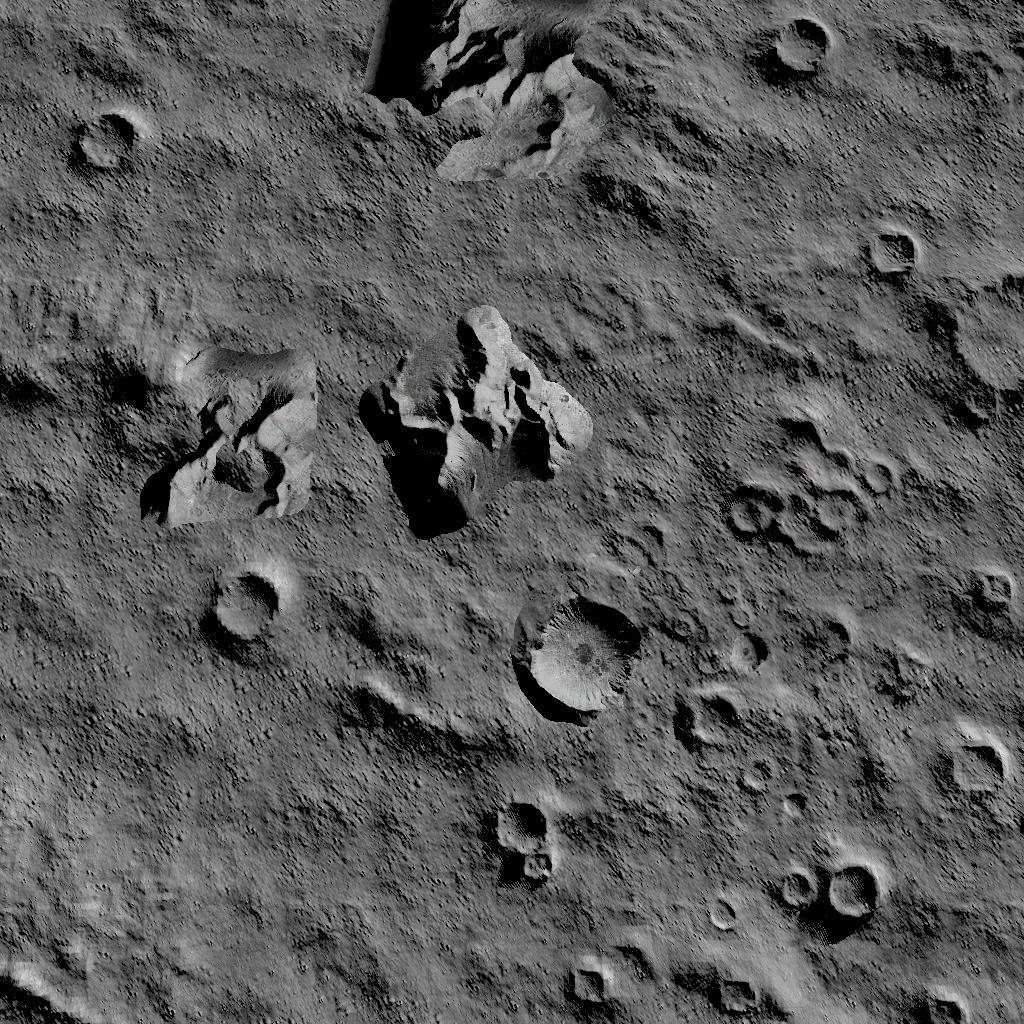Boulders: (355, 306, 597, 538), (363, 0, 639, 185), (101, 336, 314, 528)
Crater: (722, 410, 898, 558), (515, 592, 644, 722), (937, 268, 1024, 418), (203, 566, 287, 650), (778, 862, 884, 919), (485, 802, 557, 884), (67, 108, 144, 176), (675, 686, 749, 746), (767, 12, 836, 74), (941, 740, 1009, 801), (859, 224, 924, 280), (708, 974, 766, 1022), (968, 565, 1020, 609), (561, 960, 608, 1008), (723, 628, 768, 676), (915, 988, 973, 1024), (703, 892, 744, 932), (733, 756, 776, 786), (782, 795, 814, 822)
Plan surface: (3, 752, 475, 968), (155, 0, 349, 322), (677, 82, 1024, 214), (3, 536, 191, 744)
